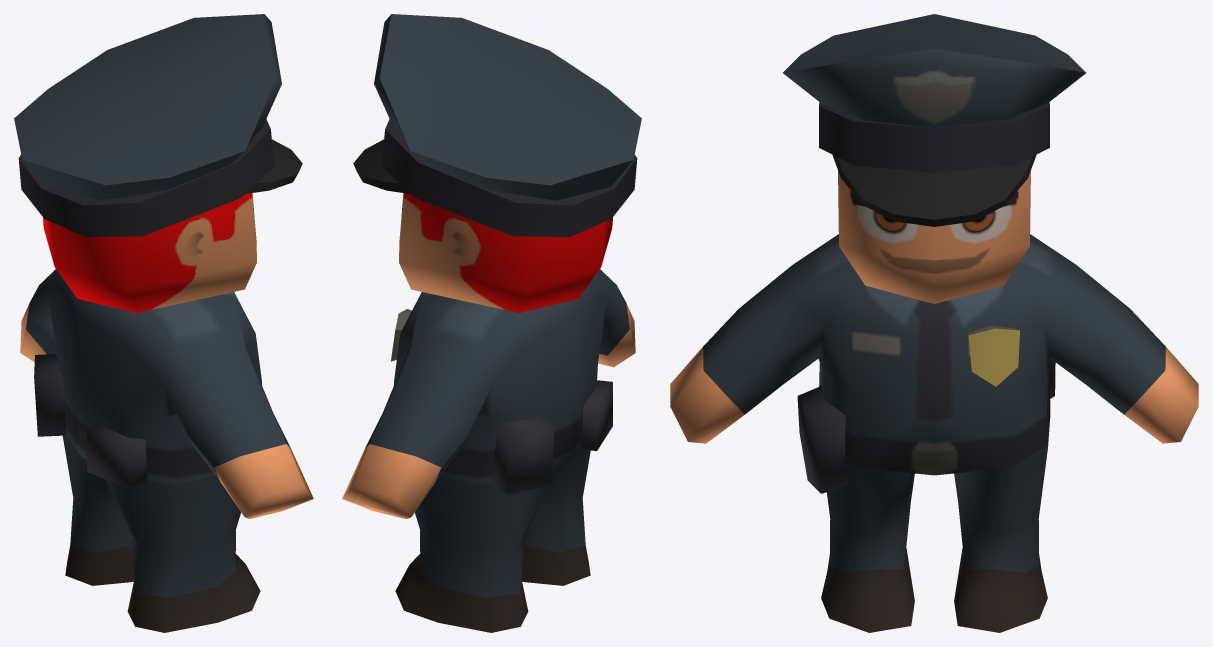
Rendered from Police.fbx.
The picture shows the model from 3 angles, left to right: view 1: azimuth 30°, elevation 25°; view 2: azimuth 150°, elevation 25°; view 3: azimuth 270°, elevation 25°; orthographic projection. The views are drawn at different scales.
Parts seen in each view (by area): view 1: head_46_police_A; view 2: head_46_police_A; view 3: head_46_police_A.
Part boxes in pixels (x1,y1,x2,y2): head_46_police_A: (14,14,313,632); head_46_police_A: (342,14,641,632); head_46_police_A: (670,14,1198,632).
Bounding box in the file's own units: 17.94 × 34.84 × 27.7.
